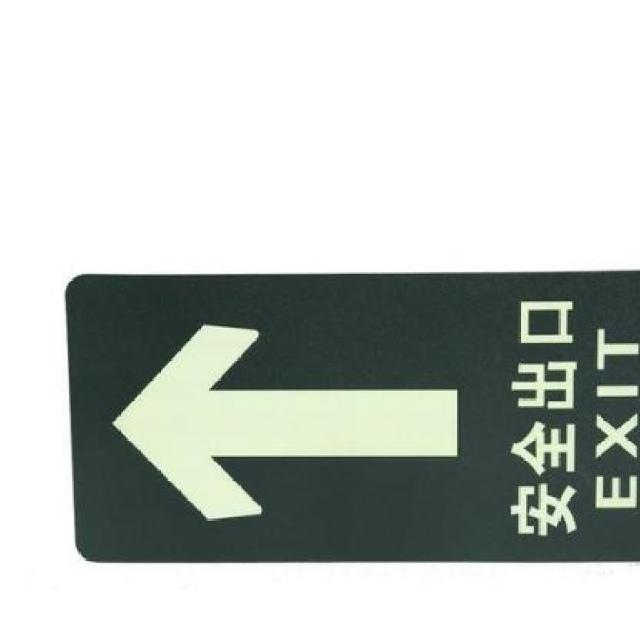exit_sign: (64, 269, 640, 575)
